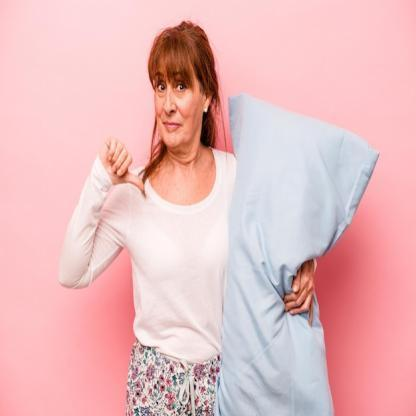thumb_down: (97, 132, 145, 194)
